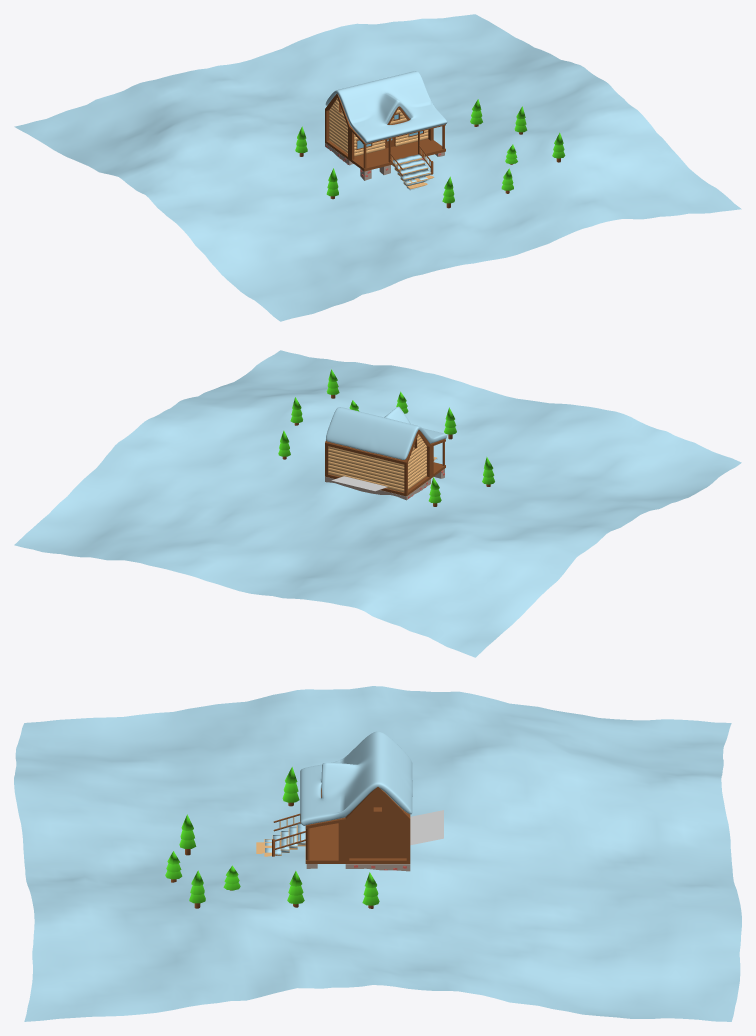
Rendered from nieve.glb.
3 views of the same model, one above another, from view 1: azimuth 30°, elevation 25°; view 2: azimuth 150°, elevation 25°; view 3: azimuth 270°, elevation 25° (orthographic). The views are drawn at different scales.
Parts seen in each view (by area): view 1: Plane.001, Cube.025, Cube, Cube.030, Circle.013, Circle.010; view 2: Plane.001, Cube.025, Circle.012, Cube, Circle.013; view 3: Plane.001, Cube.025, Cube, Plane, Cube.030.
Part boxes in pixels (x1=…): Plane.001: x1=14, y1=14, x2=741, y2=321; Cube.025: x1=325, y1=71, x2=447, y2=143; Cube: x1=325, y1=93, x2=445, y2=171; Cube.030: x1=393, y1=154, x2=430, y2=190; Circle.013: x1=329, y1=98, x2=347, y2=153; Circle.010: x1=354, y1=130, x2=428, y2=156; Plane.001: x1=14, y1=350, x2=741, y2=657; Cube.025: x1=326, y1=406, x2=447, y2=459; Circle.012: x1=328, y1=446, x2=404, y2=492; Cube: x1=325, y1=429, x2=445, y2=496; Circle.013: x1=408, y1=434, x2=426, y2=489; Plane.001: x1=14, y1=686, x2=741, y2=1021; Cube.025: x1=300, y1=731, x2=412, y2=825; Cube: x1=305, y1=787, x2=410, y2=863; Plane: x1=410, y1=810, x2=443, y2=845; Cube.030: x1=265, y1=823, x2=305, y2=855.
Size of the model in its own units: 201 by 35.71 by 204.
